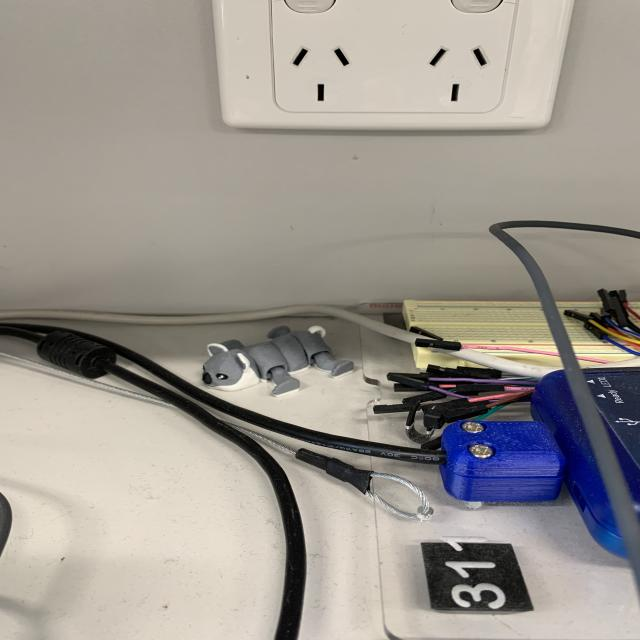koala: (187, 316, 365, 406)
